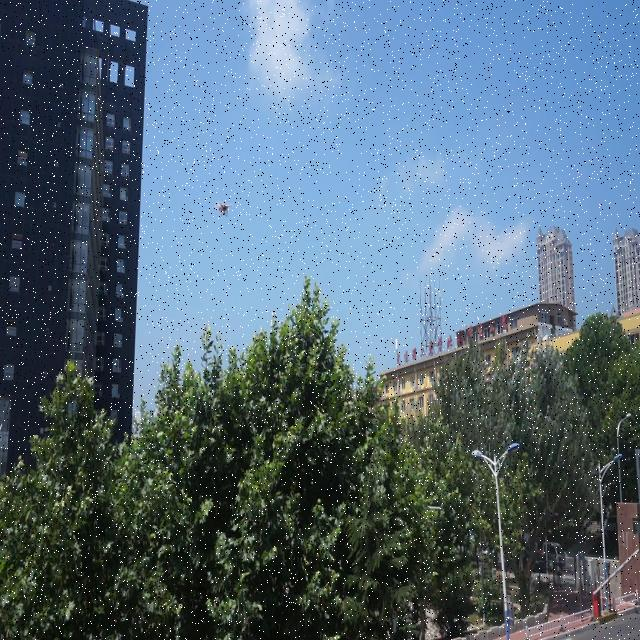UAV: (214, 201, 234, 217)
